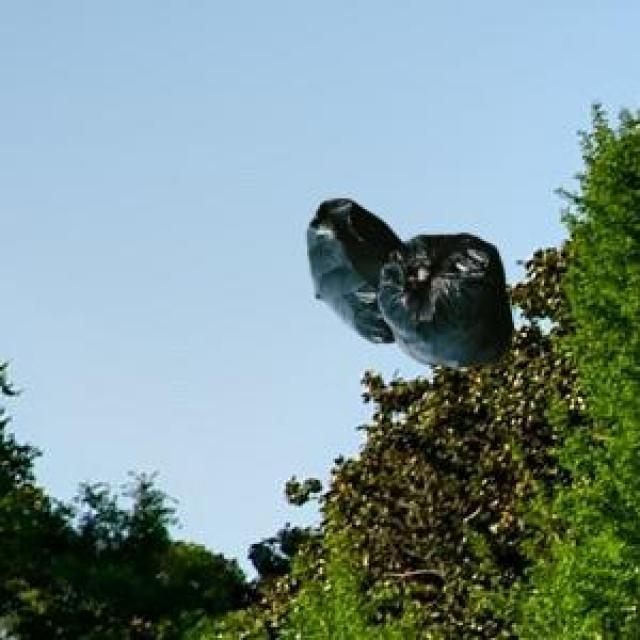waste: (308, 201, 511, 366)
